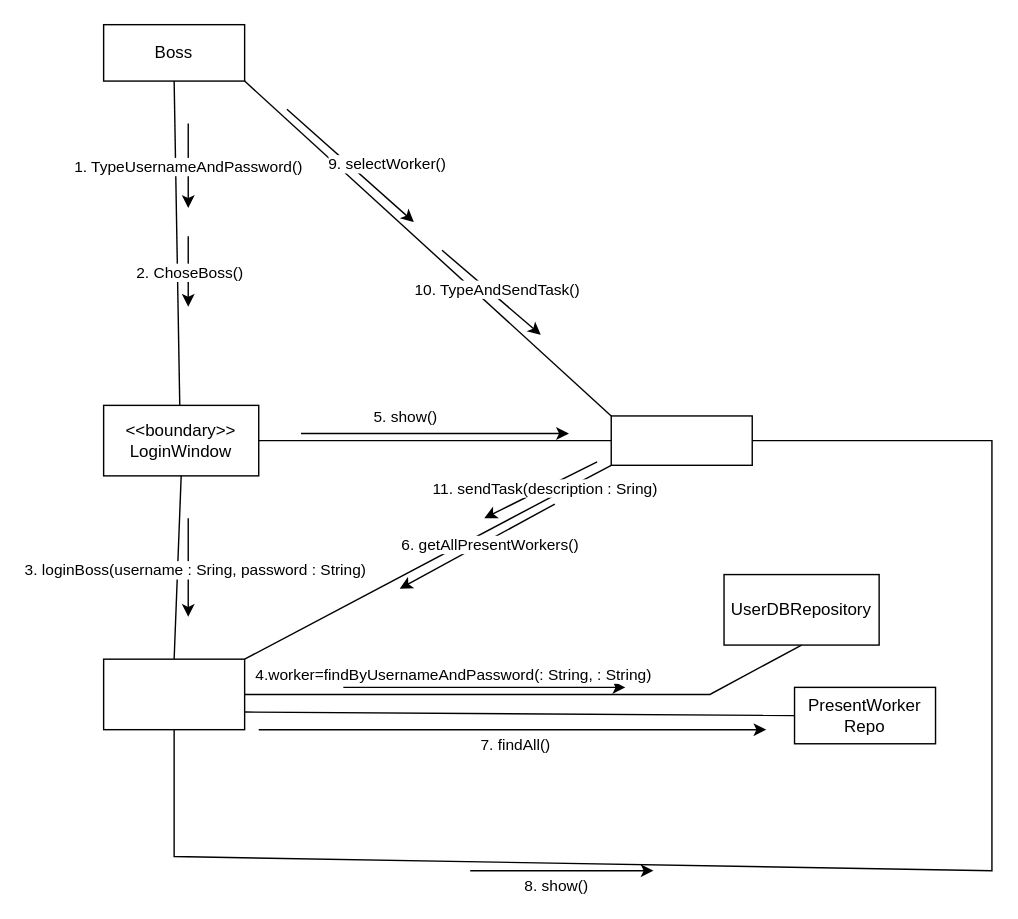
Image size: 1018x919. Some labels were removed from this diagram. Each missing label, with the box of its shape:
<<boundary>> BossWindow: (610, 415, 752, 465)
Service: (102, 658, 245, 730)
